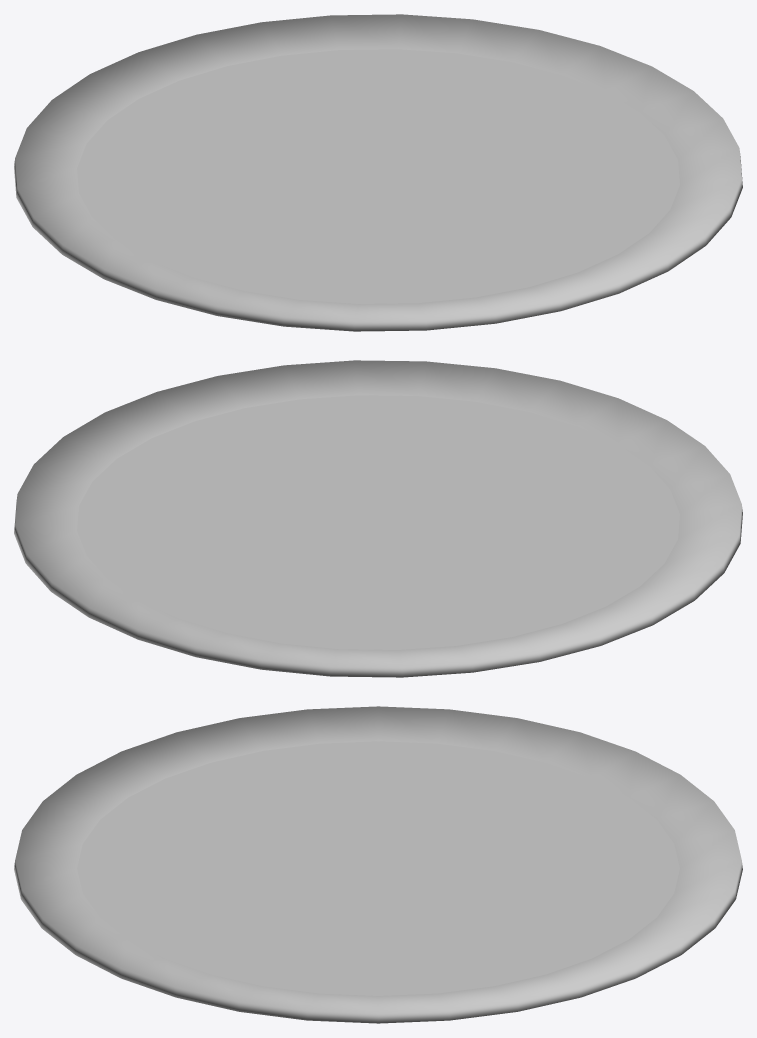
The model's file is plate.glb.
The picture shows the model from 3 angles, top to bottom: view 1: azimuth 30°, elevation 25°; view 2: azimuth 150°, elevation 25°; view 3: azimuth 270°, elevation 25°; orthographic projection.
Visible parts, largest first — view 1: plate; view 2: plate; view 3: plate.
Boxes of the visible parts, x1,y1,x2,y2 form: plate: (14,14,742,331); plate: (14,360,742,677); plate: (14,706,742,1023).
Size of the model in its own units: 0.5345 by 0.0649 by 0.5345.
1 material, 1 textured.
